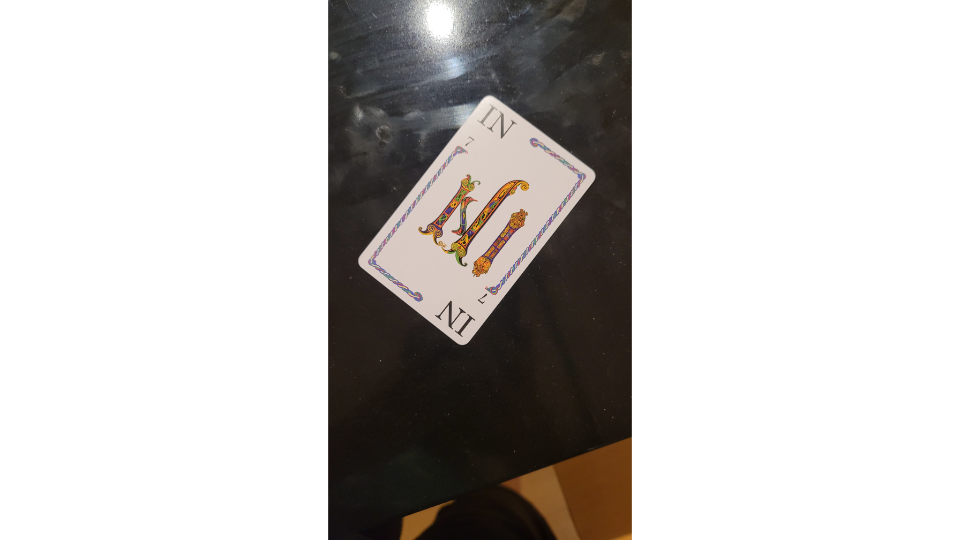IN: (356, 91, 598, 346)
